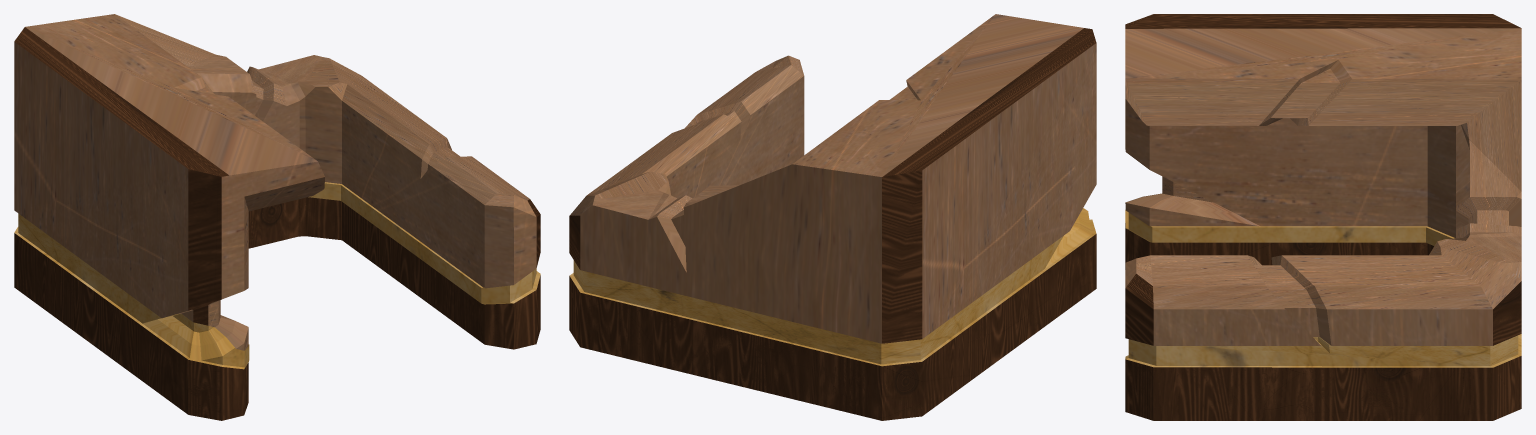
Rendered from broken_chair_2.fbx.
The picture shows the model from 3 angles, left to right: view 1: azimuth 30°, elevation 25°; view 2: azimuth 150°, elevation 25°; view 3: azimuth 270°, elevation 25°; orthographic projection. The views are drawn at different scales.
Parts seen in each view (by area): view 1: Cube.011; view 2: Cube.011; view 3: Cube.011.
Part boxes in pixels (x1=…): Cube.011: x1=14, y1=14, x2=540, y2=420; Cube.011: x1=569, y1=14, x2=1096, y2=420; Cube.011: x1=1125, y1=14, x2=1521, y2=420.
Bounding box in the file's own units: 46.12 × 30.74 × 46.1.
3 materials, 3 textured.
